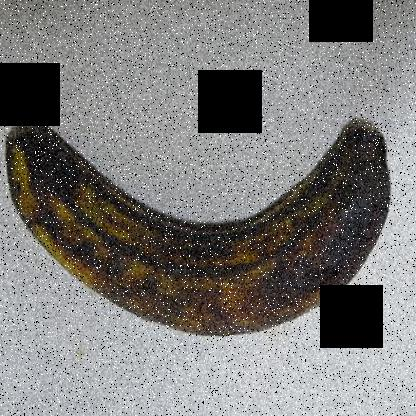overripe: (3, 114, 397, 341)
